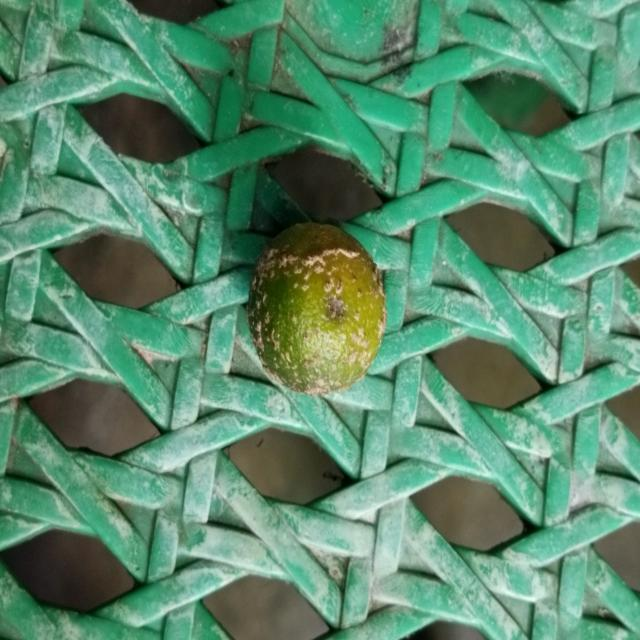scab: (242, 216, 390, 399)
